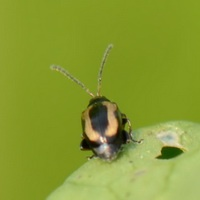insect: (50, 44, 142, 161)
